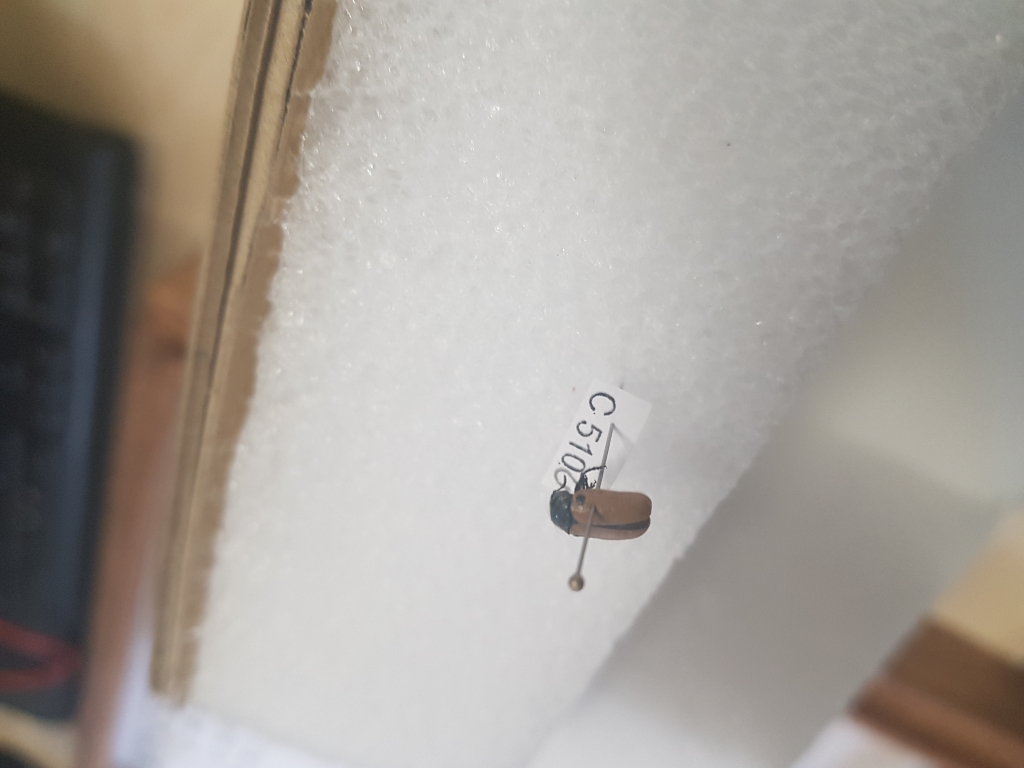Labidostomis_longimana: (549, 462, 658, 540)
